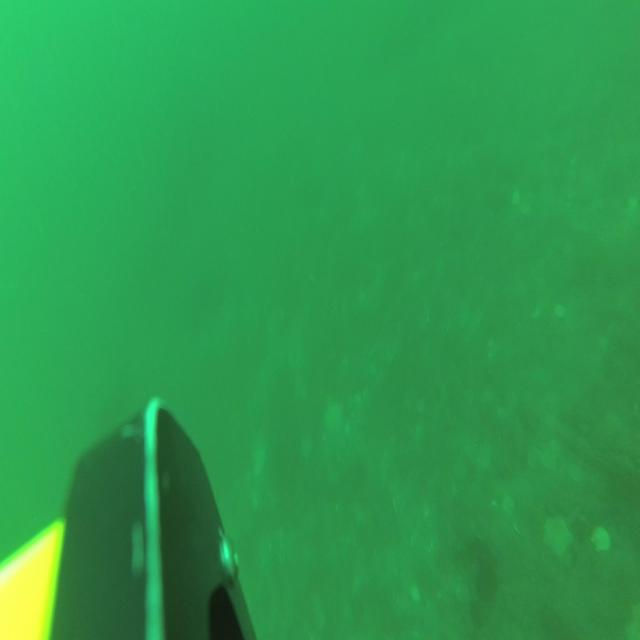scallop: (590, 525, 613, 555)
starfish: (542, 512, 574, 561), (320, 400, 346, 436)
